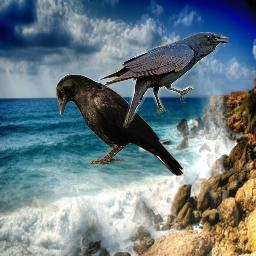Crow: (56, 74, 185, 176), (98, 32, 229, 128)
